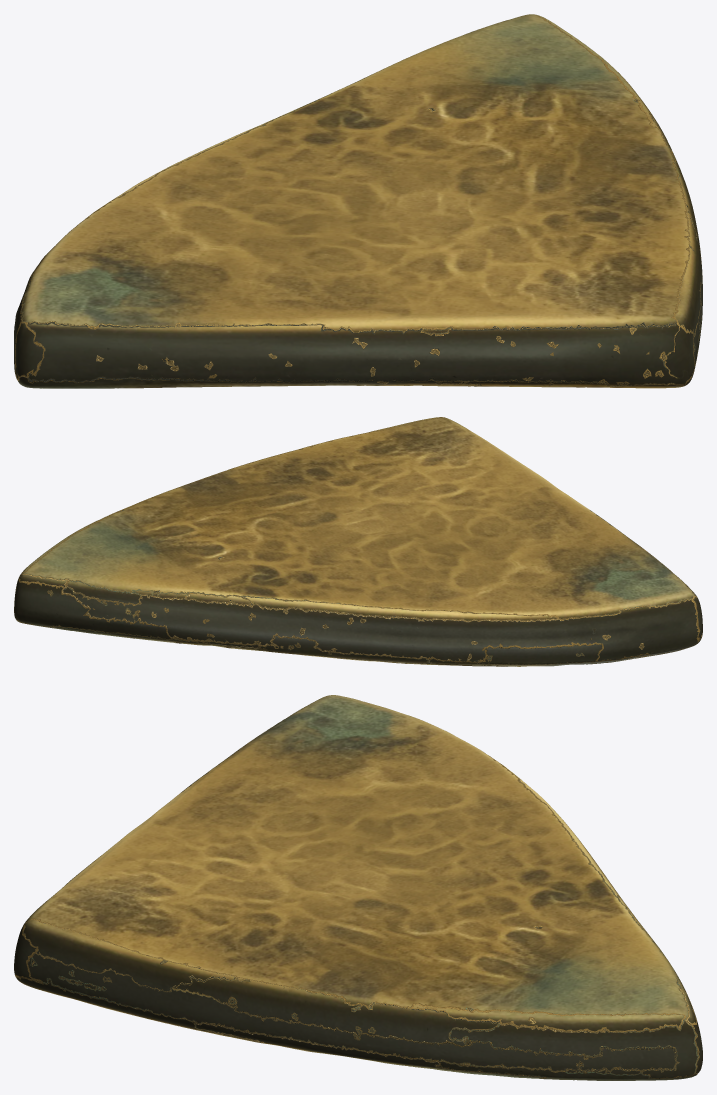
3 renders of one model, top to bottom at view 1: azimuth 30°, elevation 25°; view 2: azimuth 150°, elevation 25°; view 3: azimuth 270°, elevation 25°, orthographic. The views are drawn at different scales.
Size of the model in its own units: 1.53 by 0.1519 by 1.34.
Materials: 1 (1 with a texture image).
